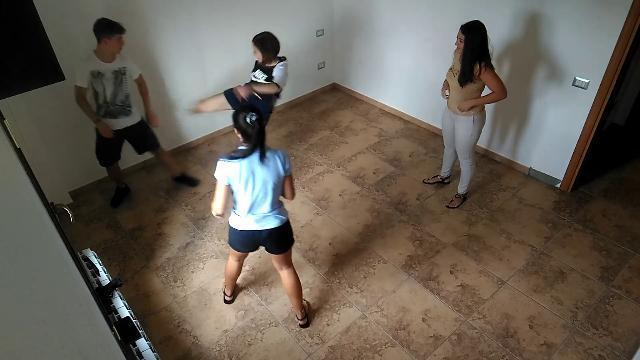non-violence: (212, 105, 312, 328), (419, 18, 508, 211)
violence: (69, 19, 289, 207)
